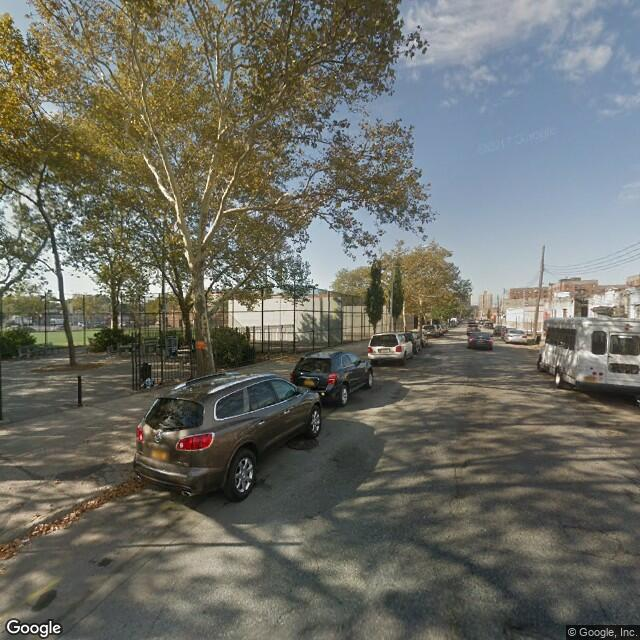litter: (133, 364, 159, 394)
